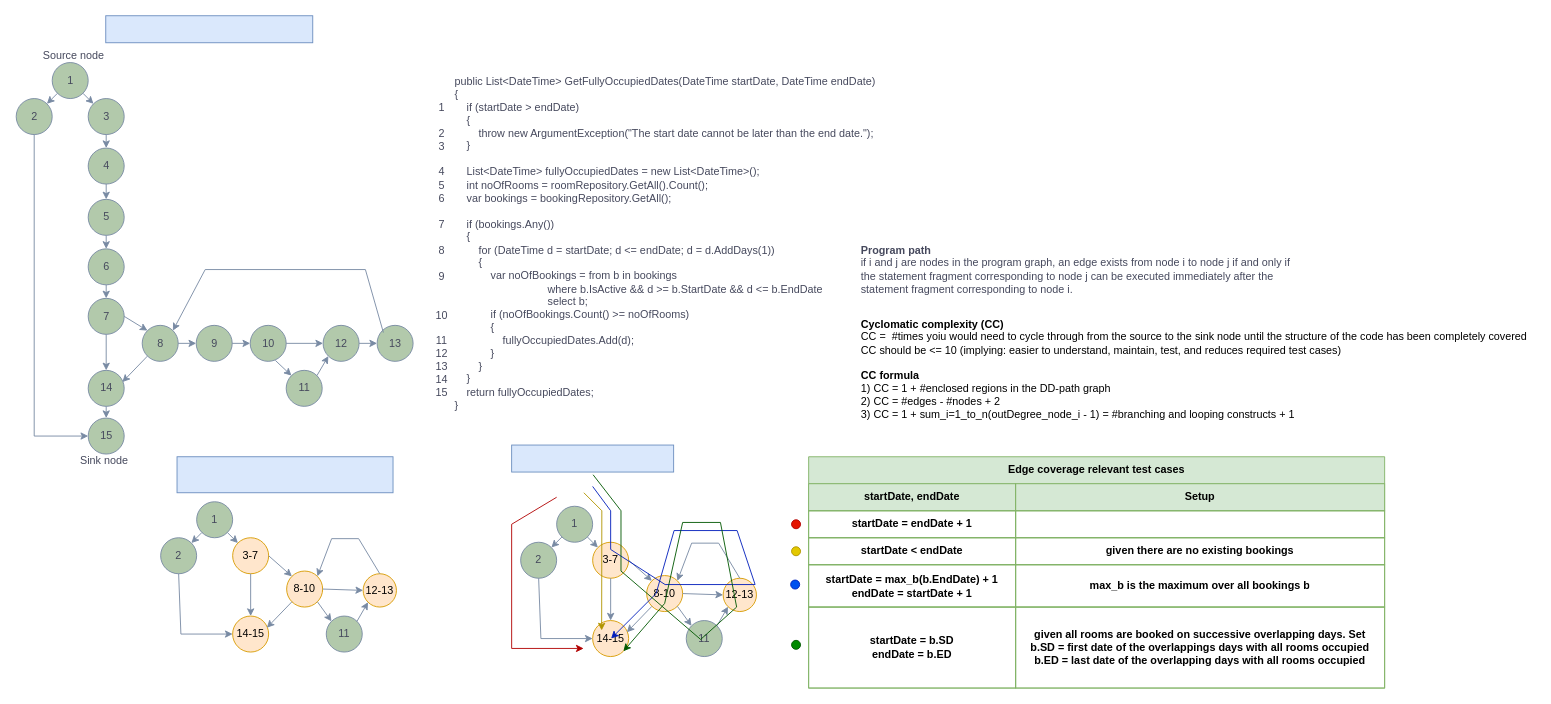
This 1551x704 diagram has some shape labels left out. The centre of each missing label's shape, as x and y in pixels:
Control Flow Graph / Program Graph: the point at 209,29
DD graph (Decision-to-decision path) Cyclomatic complexity = 5: the point at 284,474
Edge coverage of test cases: the point at 592,458
